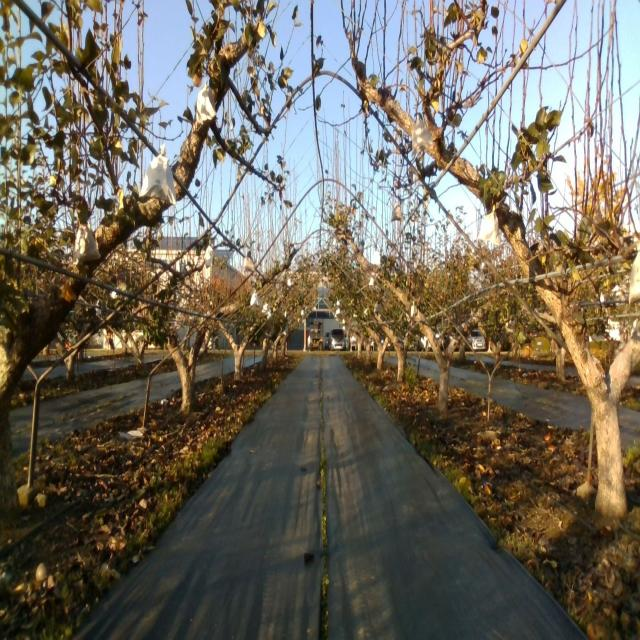pearbags: (140, 144, 176, 207), (73, 222, 101, 266), (194, 79, 217, 123), (478, 202, 500, 246), (411, 119, 433, 156), (391, 203, 402, 221)
